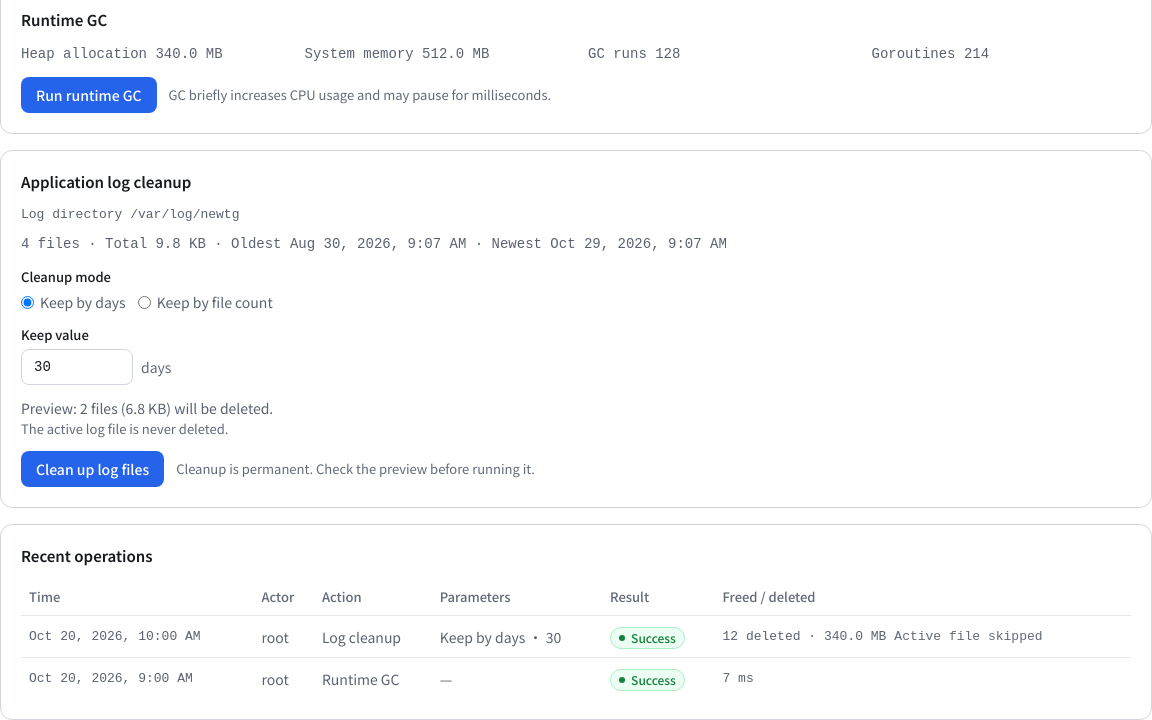
Test: maintenance actions › validates the cleanup value before allowing confirmation
The image size is (1152, 720).
(page scrolled)
Clear the number field labelled "Keep value" at (77, 367), box [21, 349, 133, 385]
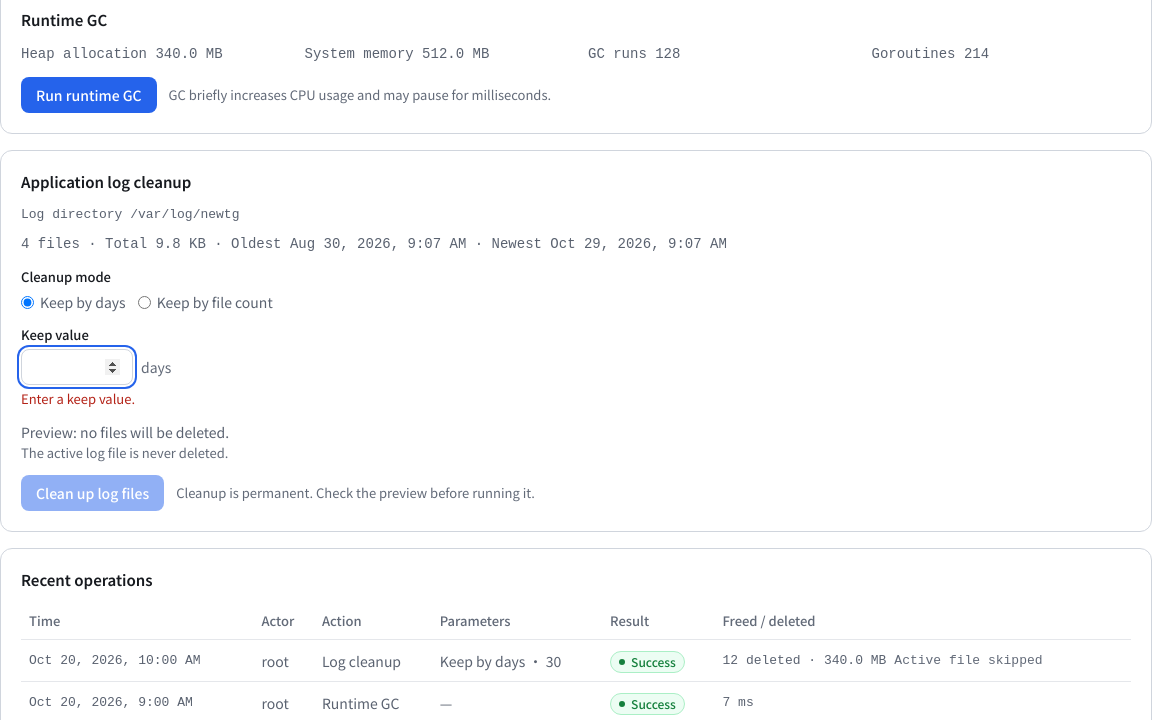
Now the text "Enter a keep value." is shown, box [21, 389, 135, 408]
Now the button "Clean up log files" is disabled, box [21, 475, 164, 511]
Type "40000" into the number field labelled "Keep value" at (77, 367), box [21, 349, 133, 385]
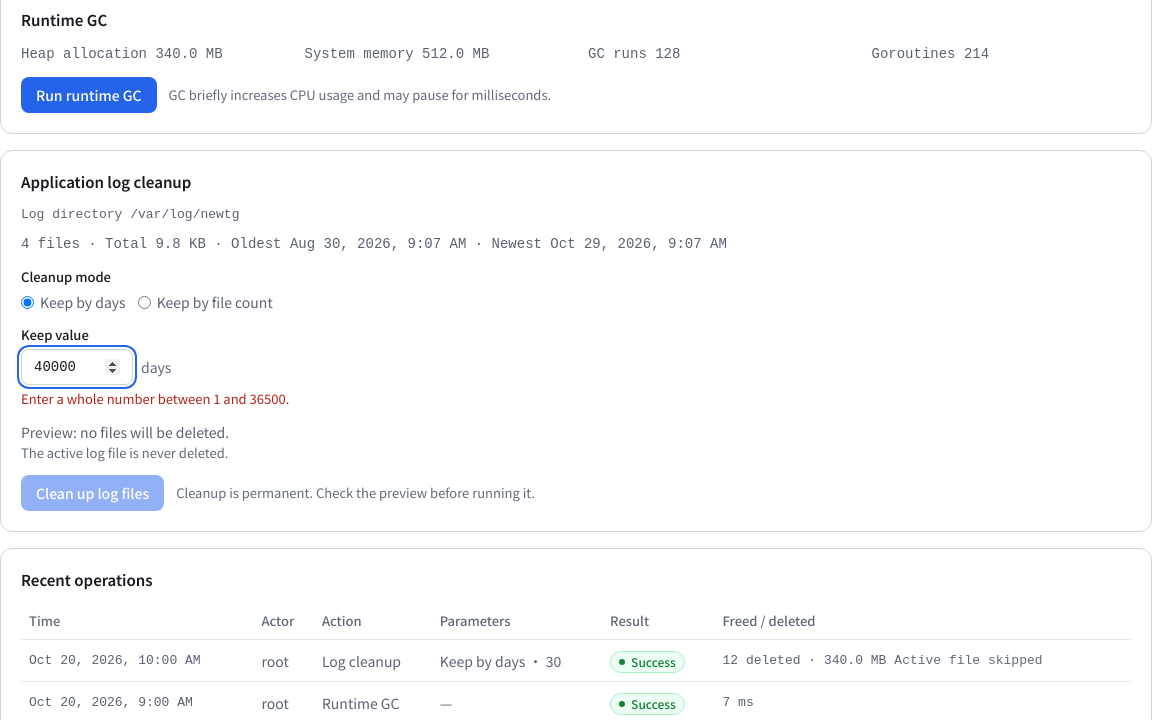
Now the text "Enter a whole number between 1 and 36500." is shown, box [21, 389, 289, 408]
